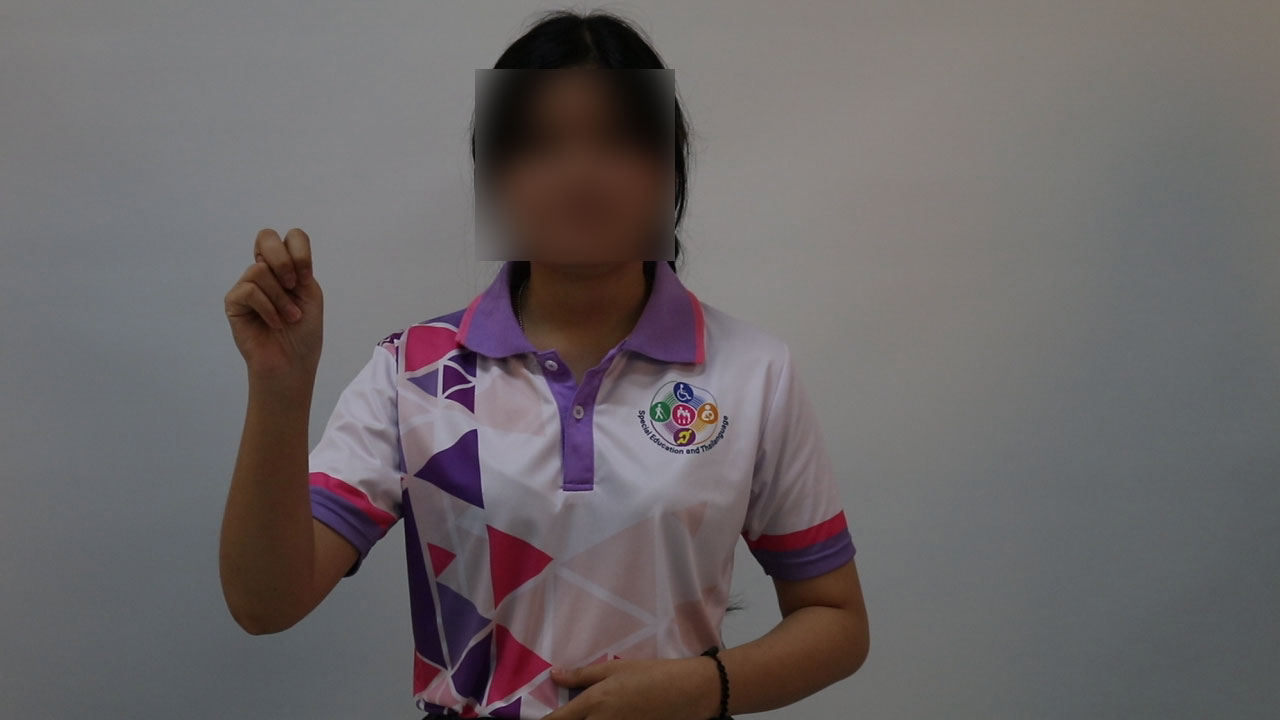nor: (221, 219, 342, 395)
